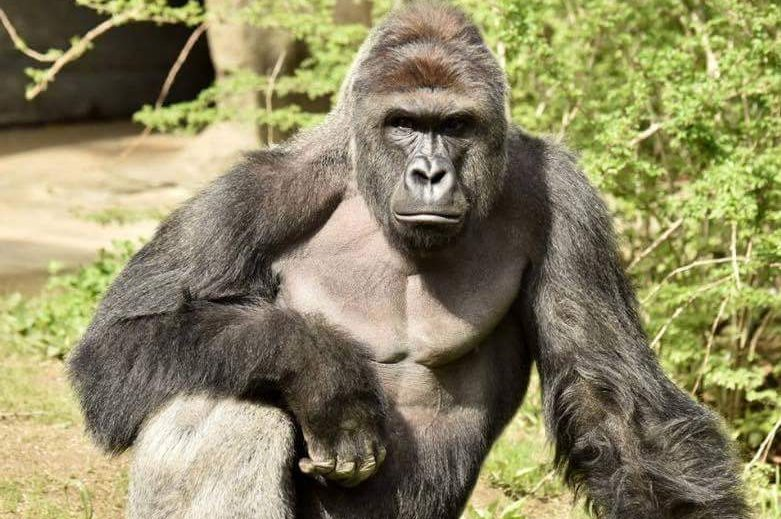Goriila: (79, 1, 678, 519)
